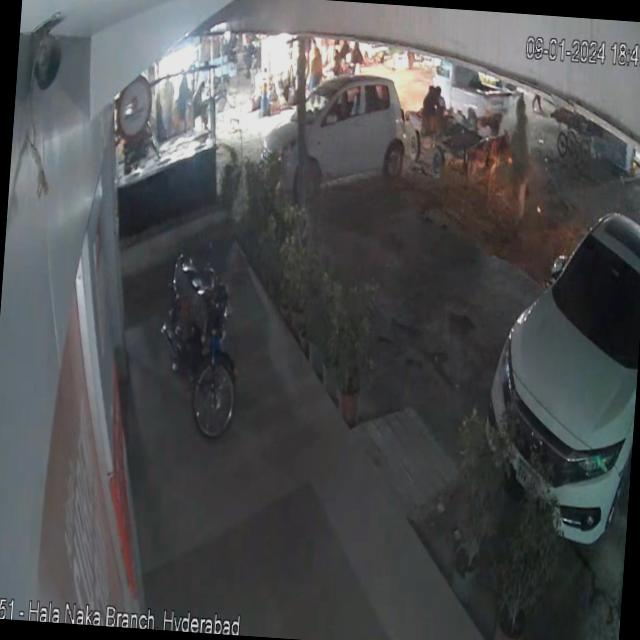Car: (475, 185, 640, 565), (257, 70, 428, 209)
